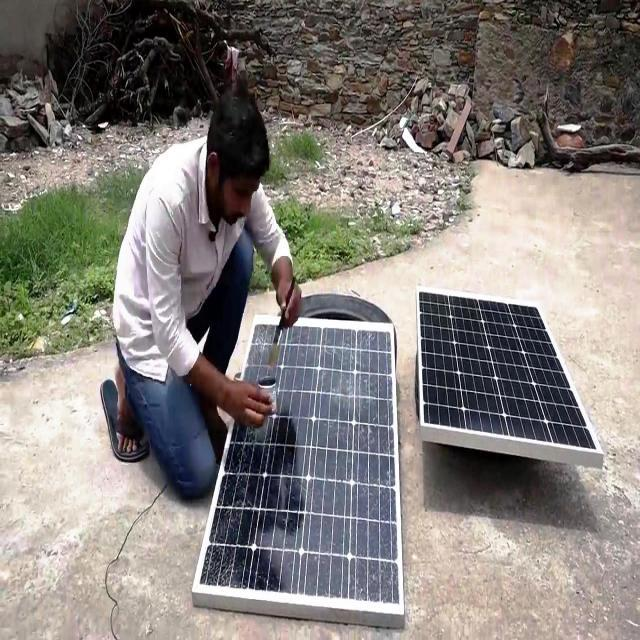faulty: (194, 312, 406, 614)
no faulty: (412, 284, 606, 462)
